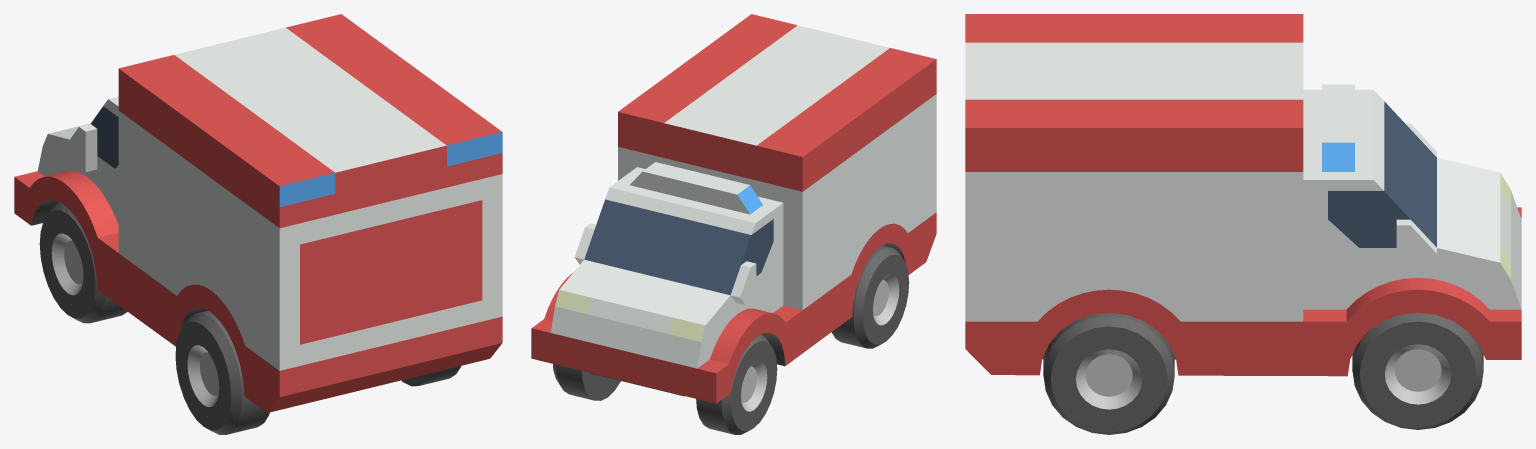
File: carAmbulance.fbx
3 renders of one model, left to right at view 1: azimuth 30°, elevation 25°; view 2: azimuth 150°, elevation 25°; view 3: azimuth 270°, elevation 25°, orthographic. The views are drawn at different scales.
Visible parts, largest first — view 1: body, wheelBackLeft, wheelFrontLeft, wheelBackRight; view 2: body, wheelBackLeft, wheelFrontLeft, wheelFrontRight; view 3: body, wheelBackRight, wheelFrontRight.
Boxes of the visible parts, left/top/right/bottom form: body: left=14, top=14, right=502, bottom=412; wheelBackLeft: left=175, top=310, right=269, bottom=434; wheelFrontLeft: left=39, top=202, right=127, bottom=323; wheelBackRight: left=401, top=365, right=461, bottom=386; body: left=531, top=14, right=936, bottom=403; wheelBackLeft: left=831, top=245, right=909, bottom=348; wheelFrontLeft: left=696, top=334, right=777, bottom=434; wheelFrontRight: left=553, top=364, right=620, bottom=400; body: left=965, top=14, right=1521, bottom=376; wheelBackRight: left=1043, top=312, right=1174, bottom=434; wheelFrontRight: left=1352, top=312, right=1483, bottom=429.
Size of the model in its own units: 6.15 by 7.27 by 11.85.
